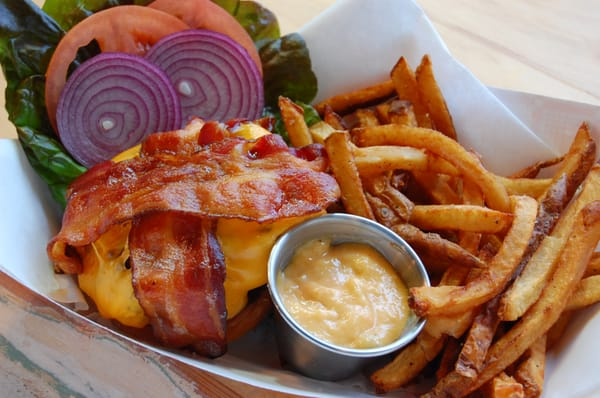soup: (46, 108, 346, 353)
sushi: (266, 213, 431, 380)
